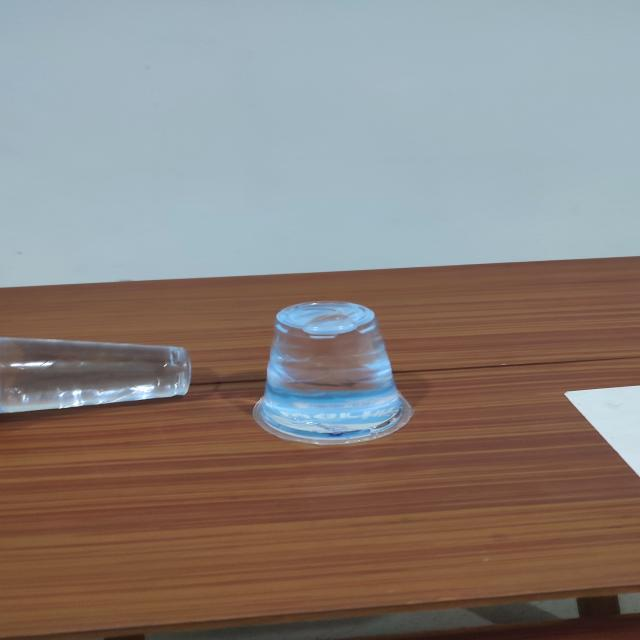air gelas: (242, 292, 428, 448), (1, 332, 197, 417)
